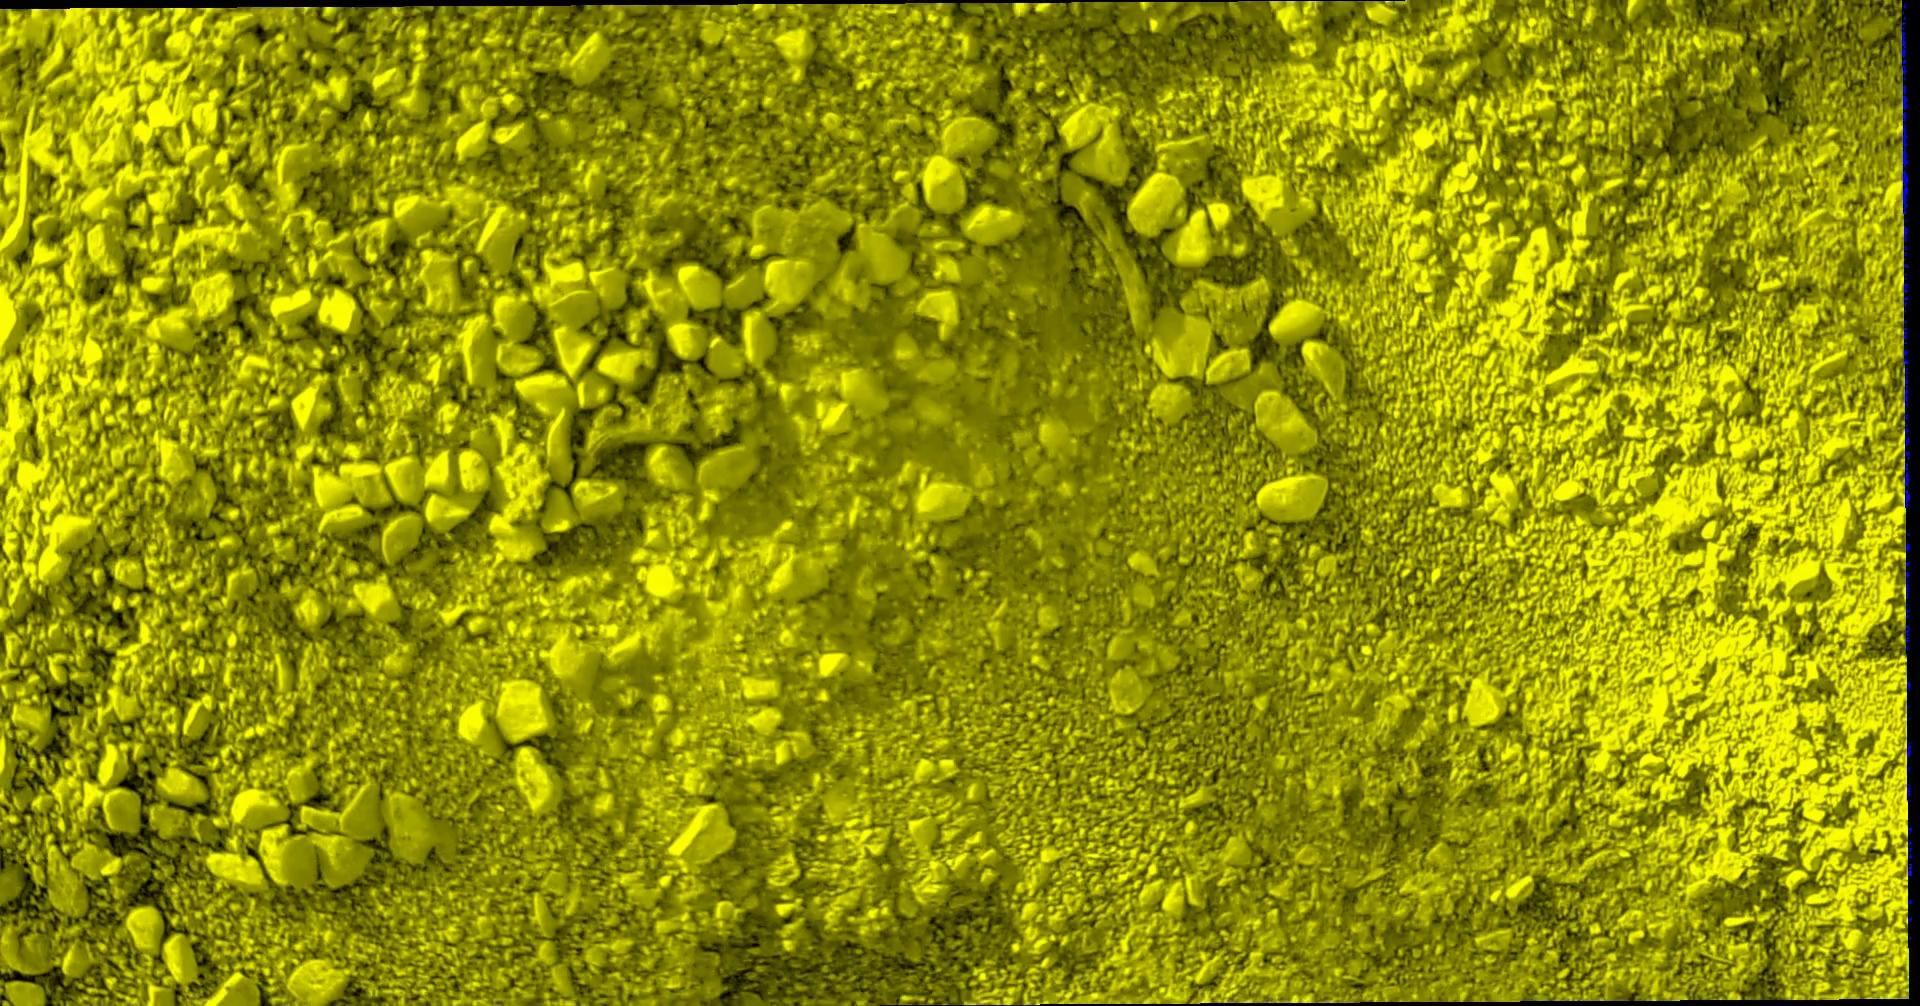ant: (1903, 412, 1910, 507), (1902, 319, 1909, 406), (1903, 560, 1910, 619), (1907, 826, 1912, 876), (1903, 624, 1910, 655)
